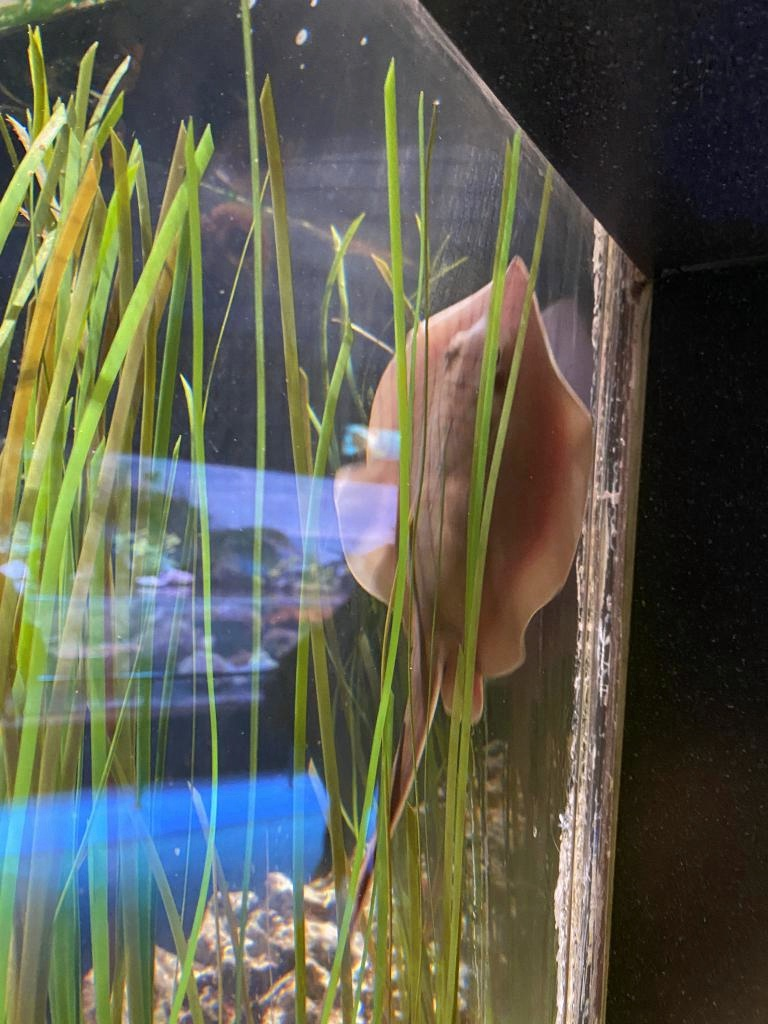stingray: (333, 255, 597, 725)
